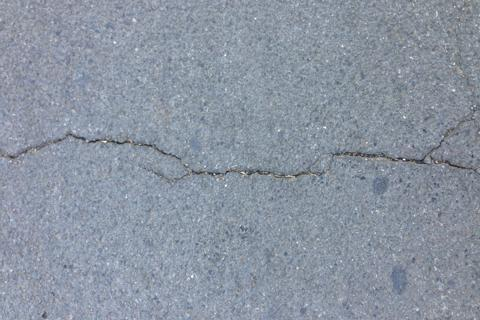alligator-crack: (3, 119, 480, 187)
